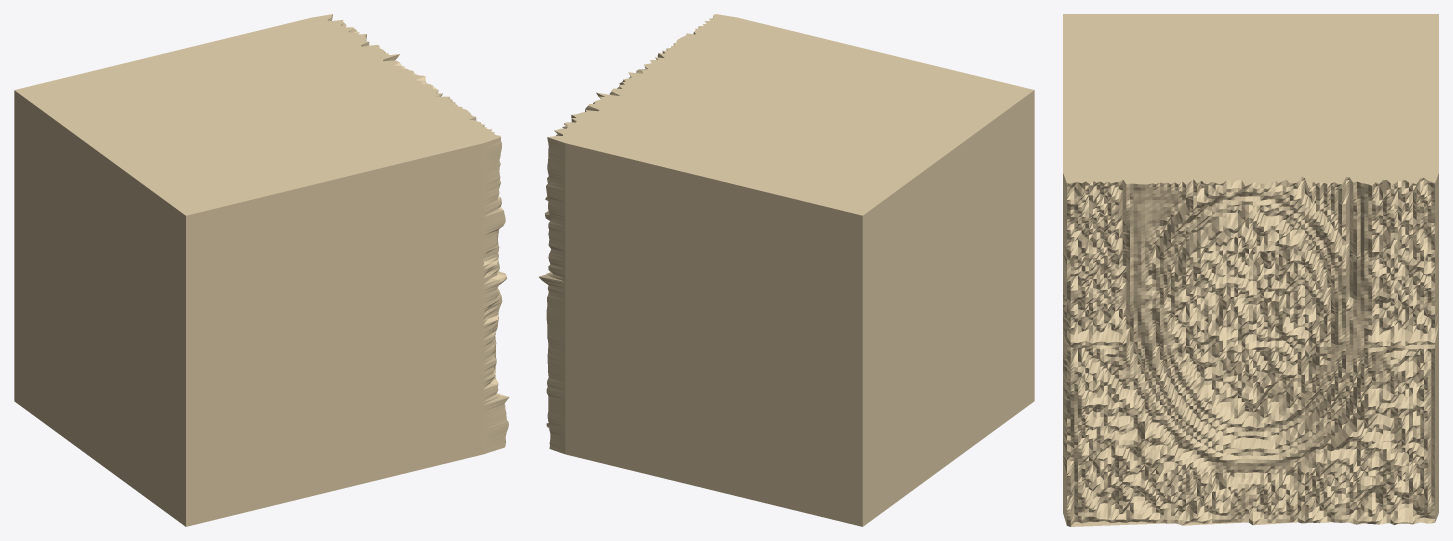
Rendered from bottom6.png - copia.obj.
3 renders of one model, left to right at view 1: azimuth 30°, elevation 25°; view 2: azimuth 150°, elevation 25°; view 3: azimuth 270°, elevation 25°, orthographic. The views are drawn at different scales.
Visible parts, largest first — view 1: Cube; view 2: Cube; view 3: Cube.
Part boxes in pixels (left/top/right/bottom): Cube: left=14, top=14, right=509, bottom=526; Cube: left=539, top=14, right=1034, bottom=526; Cube: left=1063, top=14, right=1438, bottom=526.
Bounding box in the file's own units: 1.1 × 1 × 1.
